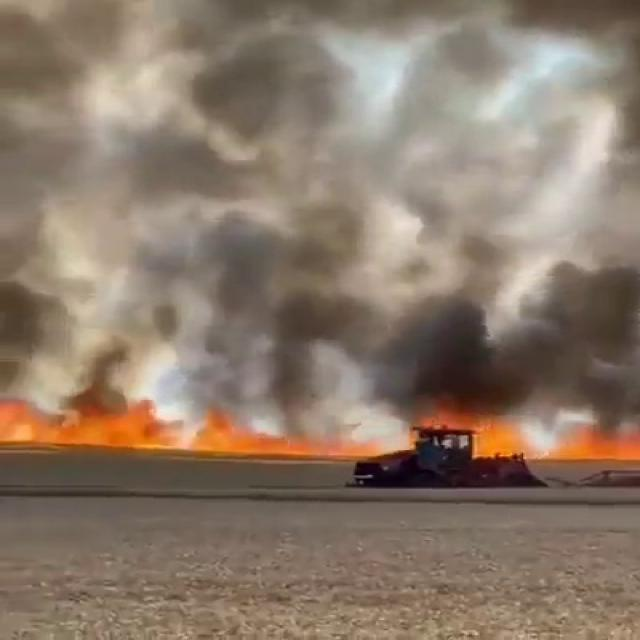Fire: (0, 402, 386, 464), (443, 419, 640, 460)
Smoke: (0, 0, 640, 434)
